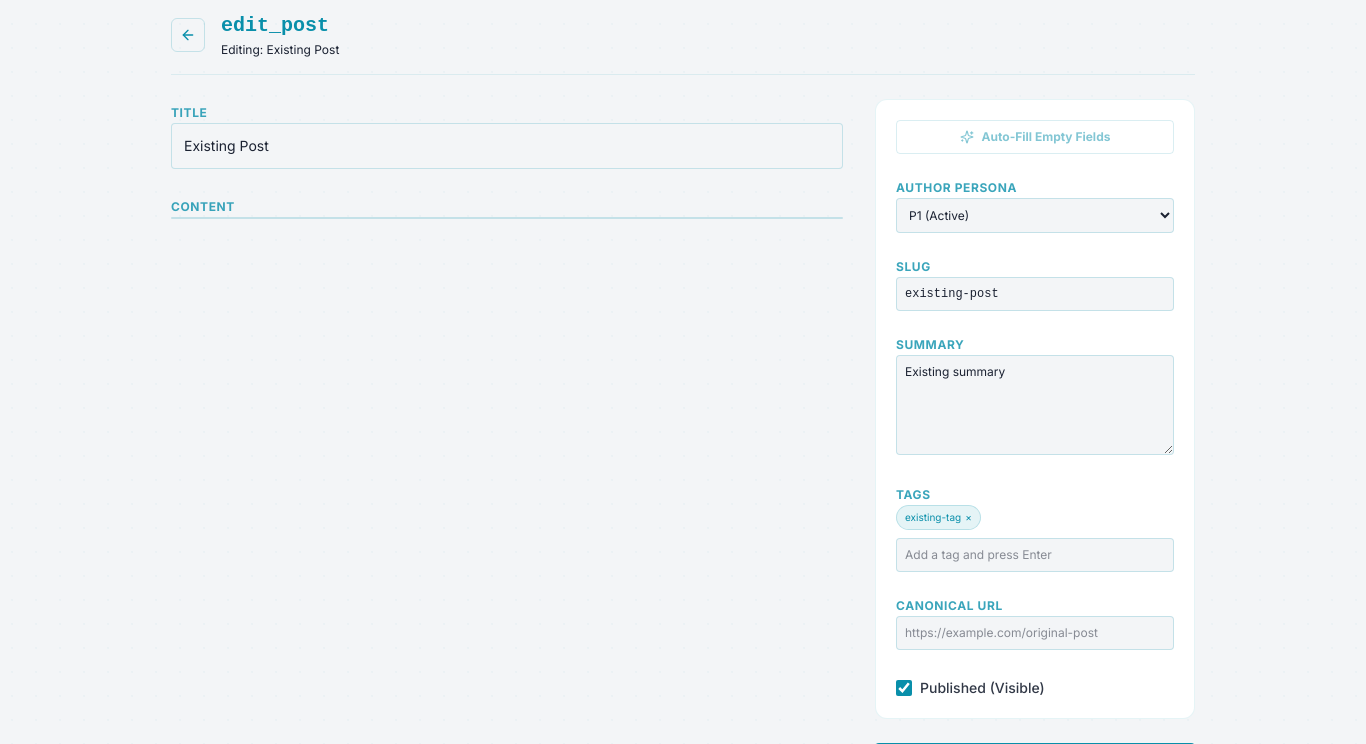
EditBlogPage › shows error when generate metadata fails
Expected: the field with placeholder "Post Title..." below "Title" holds "Existing Post", [171, 123, 843, 169]
# Clear slug to enable the button
Clear the field with placeholder "url-friendly-slug" below "Slug" at (1035, 294), box [896, 277, 1174, 311]
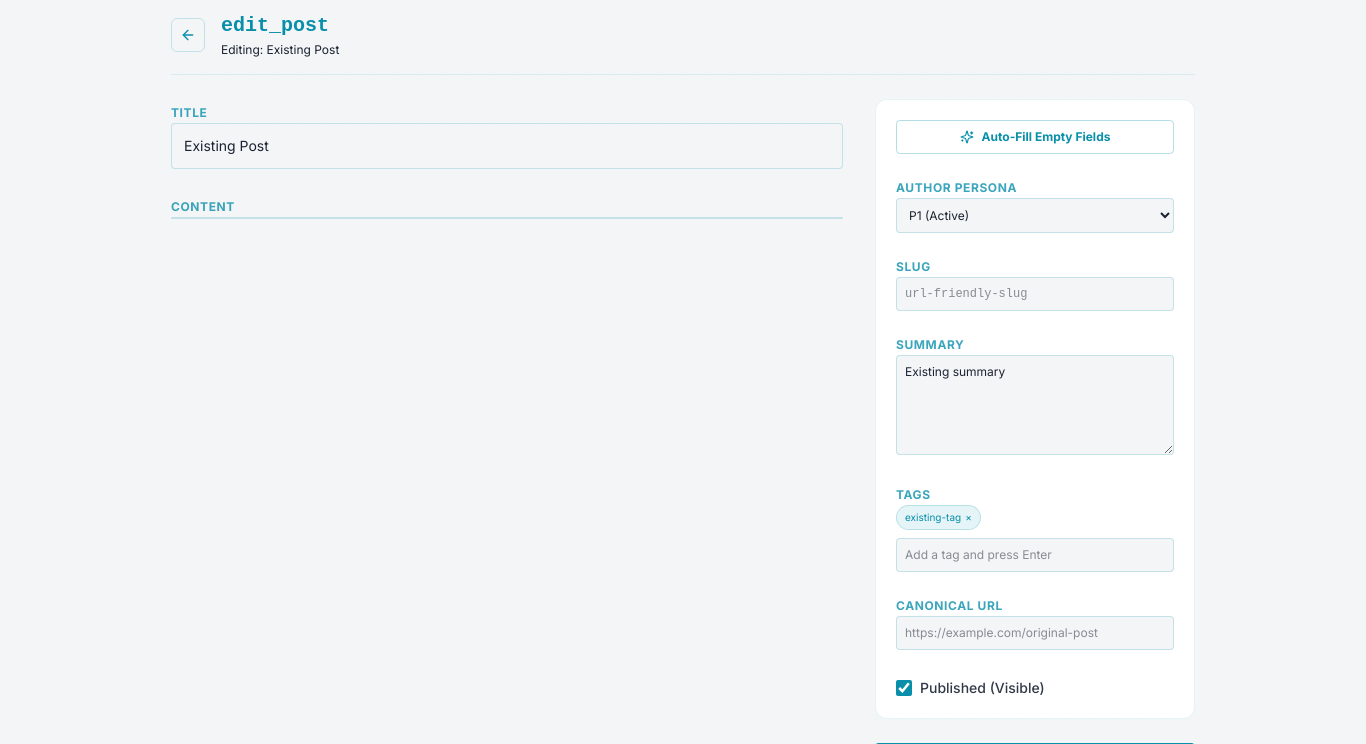
# Click Auto-Fill
Click the button "Auto-Fill Empty Fields" at (1035, 137), box [896, 120, 1174, 154]
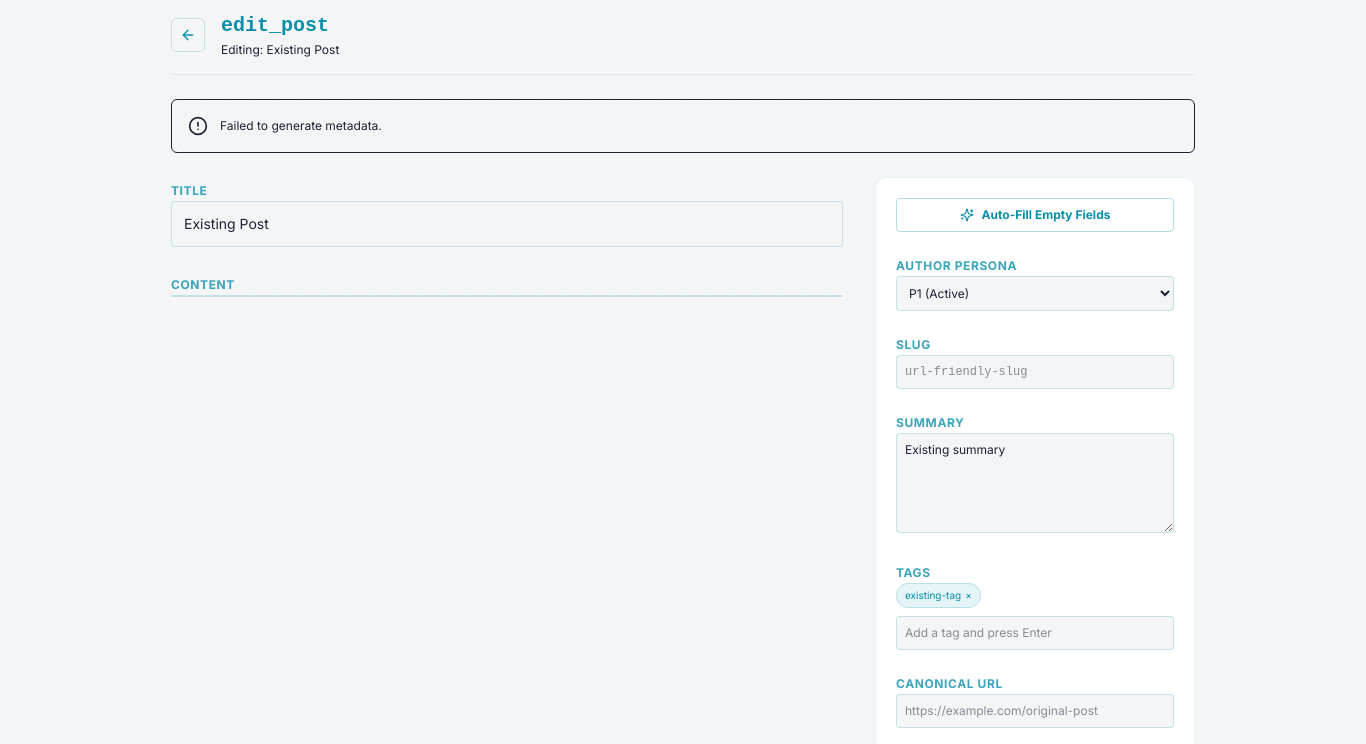
Now the text "Failed to generate metadata." is shown, box [220, 118, 382, 134]
